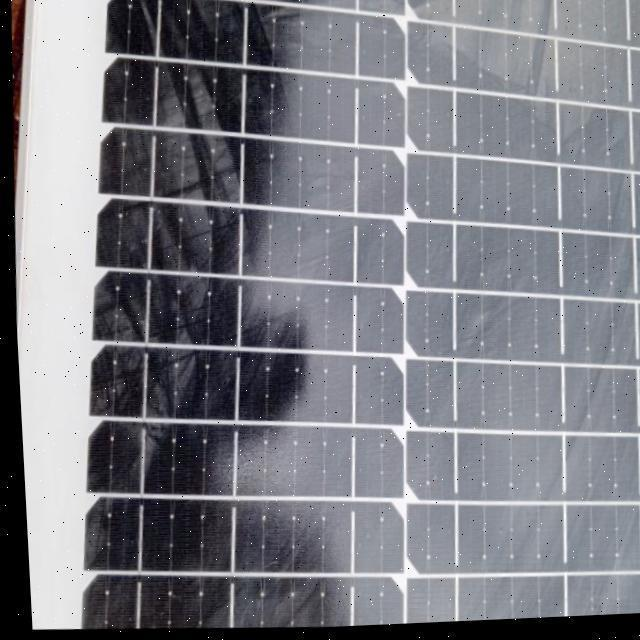Surface Contaminant: (132, 0, 640, 629)
